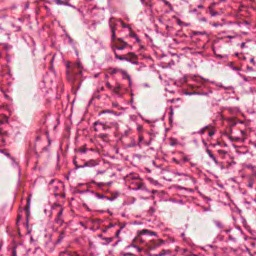mitosis: (41, 119, 51, 129)
